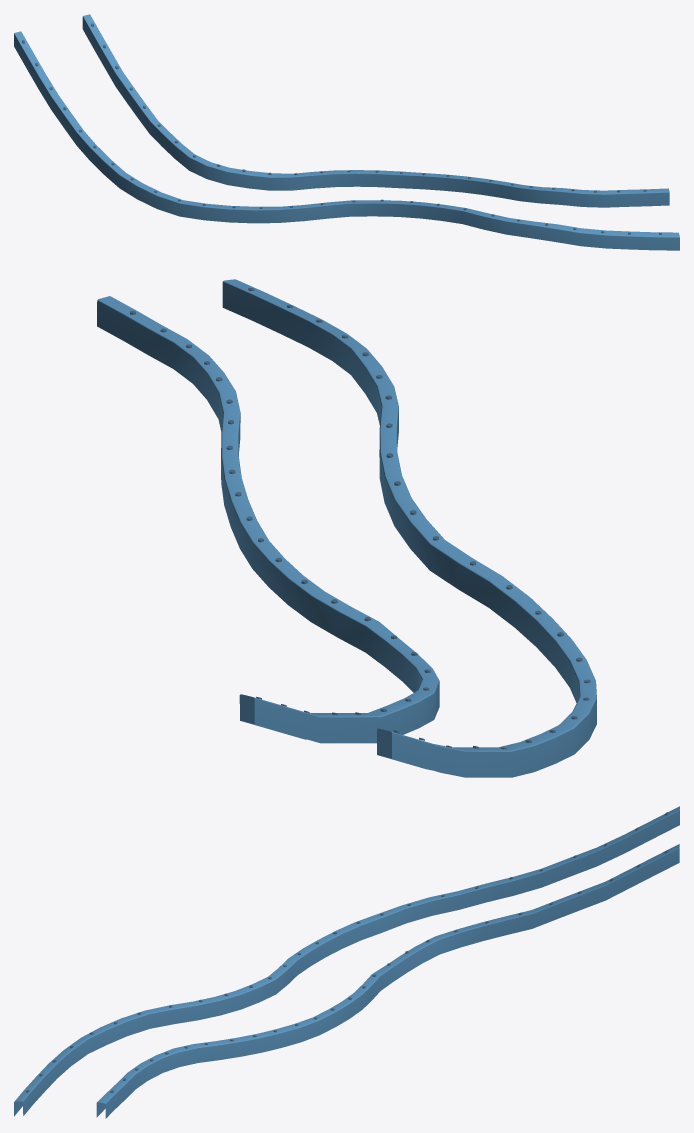
The model's file is railC_side.fbx.
3 views of the same model, one above another, from view 1: azimuth 30°, elevation 25°; view 2: azimuth 150°, elevation 25°; view 3: azimuth 270°, elevation 25° (orthographic). The views are drawn at different scales.
Parts seen in each view (by area): view 1: railC_side; view 2: railC_side; view 3: railC_side.
Boxes of the visible parts, x1=… form: railC_side: x1=14, y1=14, x2=679, y2=250; railC_side: x1=97, y1=279, x2=596, y2=777; railC_side: x1=14, y1=806, x2=679, y2=1118.
Bounding box in the file's own units: 5.73 × 1.28 × 7.27.
